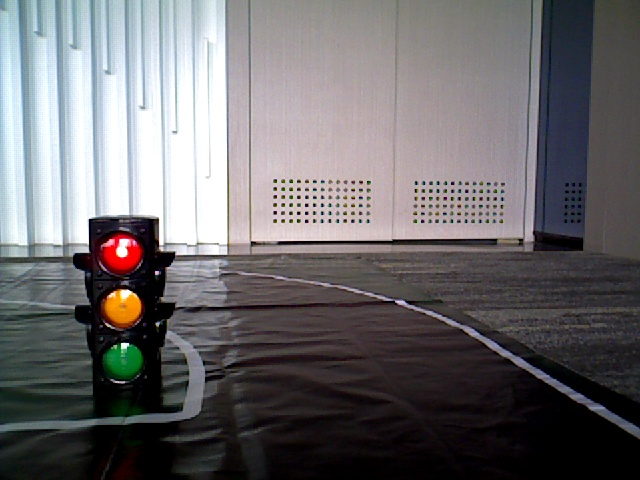red: (91, 225, 157, 394)
